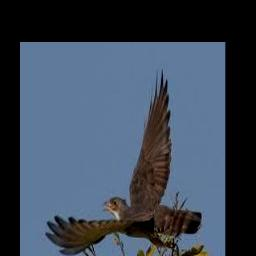Cuckoo: (46, 67, 202, 253)
